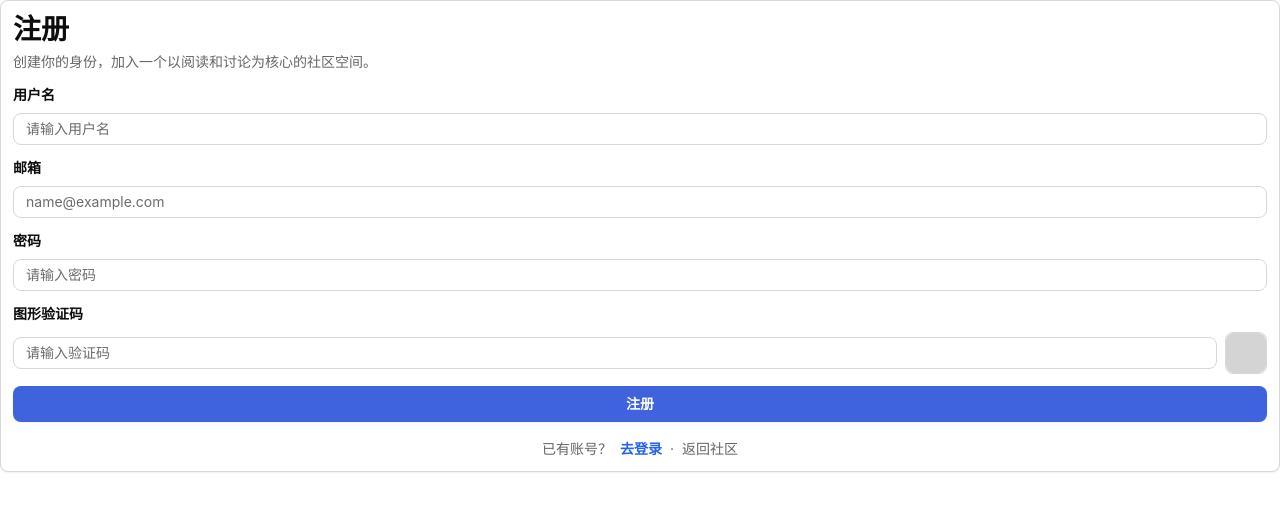
Test: RegisterView › refreshes the captcha after backend rejects registration with an expired captcha
Type "alice" into the field labelled "用户名" at x=640, y=129, box [13,113,1267,145]
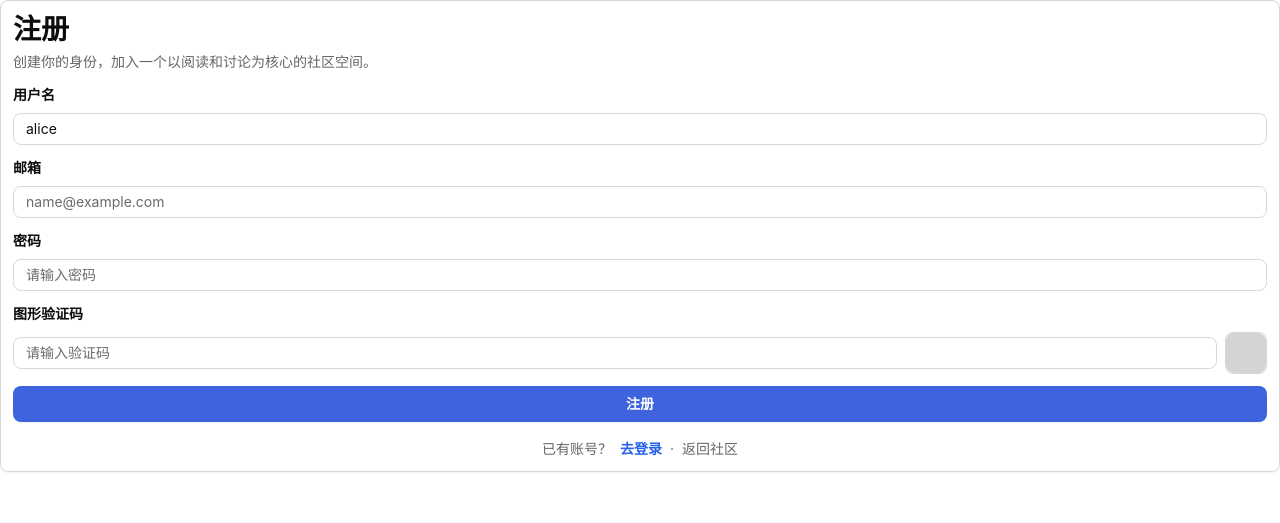
Type "alice@example.com" into the field labelled "邮箱" at x=640, y=202, box [13,186,1267,218]
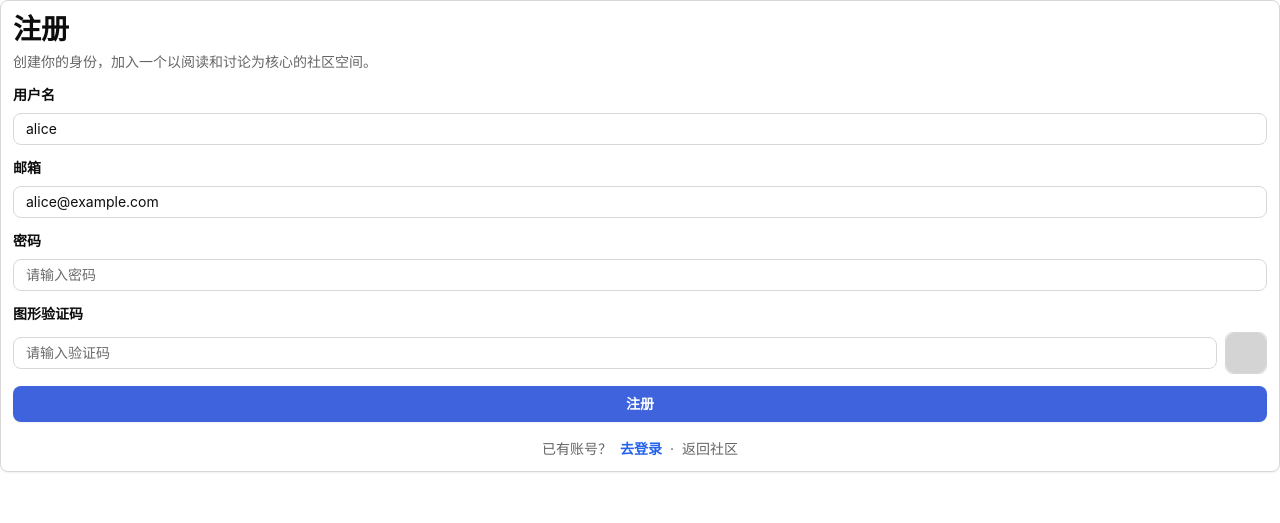
Type "secret" into the password field labelled "密码" at x=640, y=275, box [13,259,1267,291]
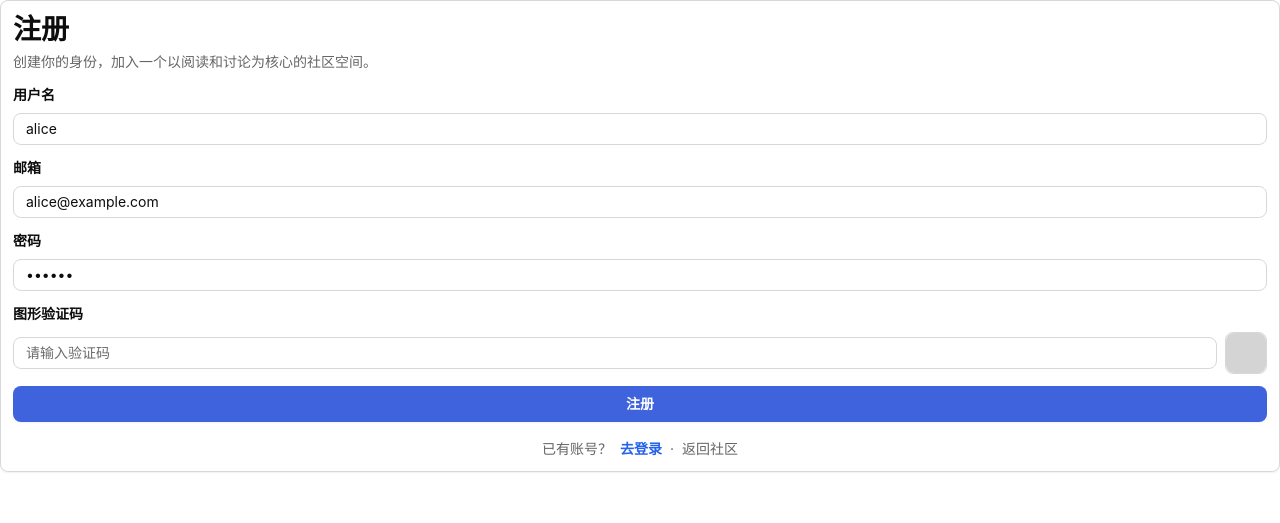
Type "abcd" into the field labelled "图形验证码" at x=615, y=353, box [13,337,1217,369]
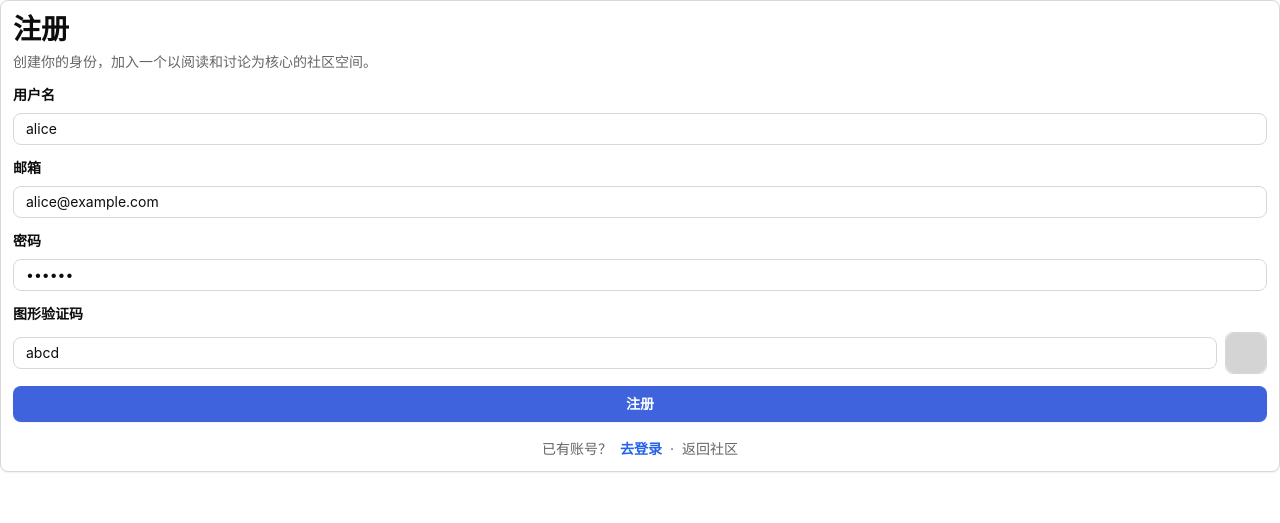
Click the button with class "auth-submit-btn" at x=640, y=404, box [13,386,1267,422]
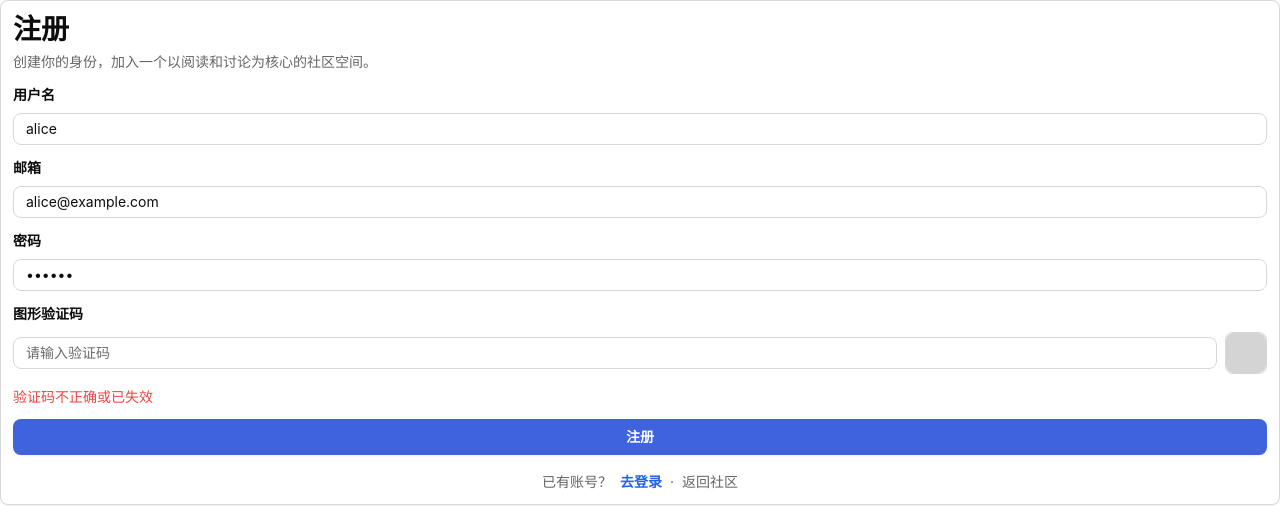
Now the field labelled "图形验证码" is empty, box [13,337,1217,369]
Now the text "验证码不正确或已失效" is shown, box [13,388,153,405]
